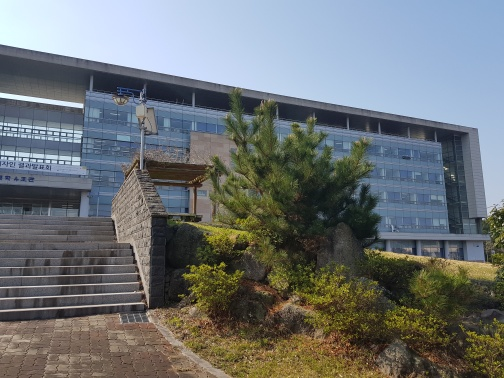Engineering College Building 4: (4, 52, 489, 218), (378, 112, 486, 259), (31, 65, 111, 214)
